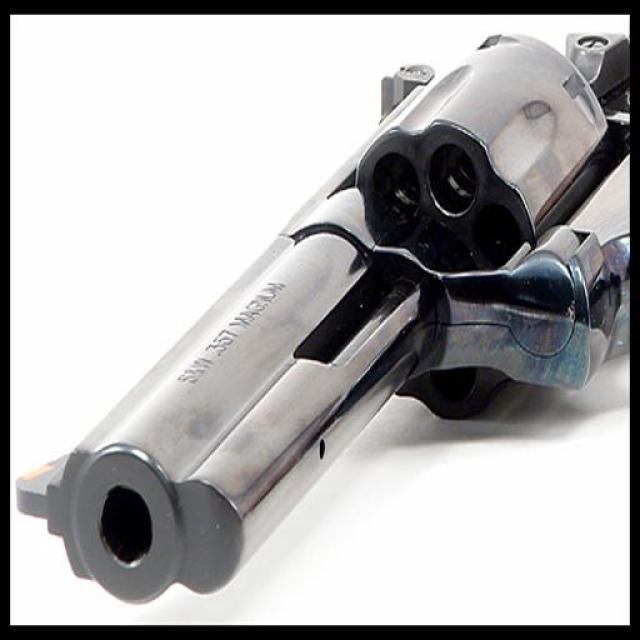pistol: (15, 34, 629, 603)
